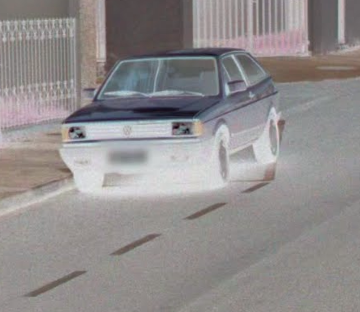car: (58, 47, 283, 184)
